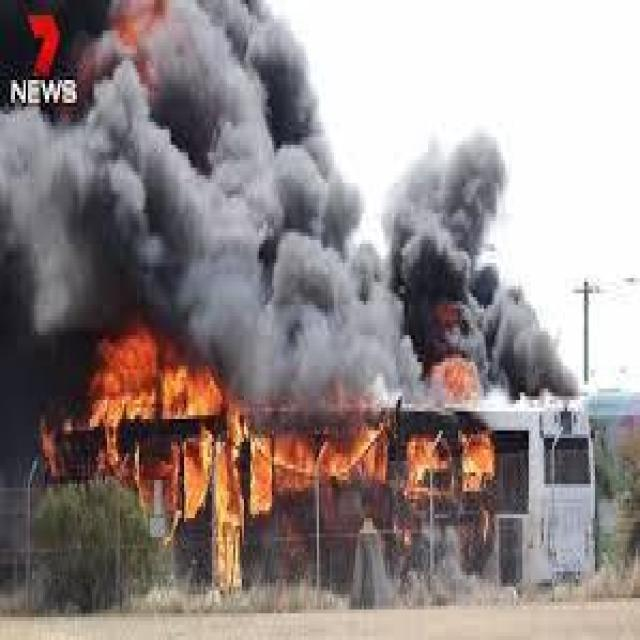fire: (38, 310, 498, 592)
smoke: (0, 0, 589, 385)
